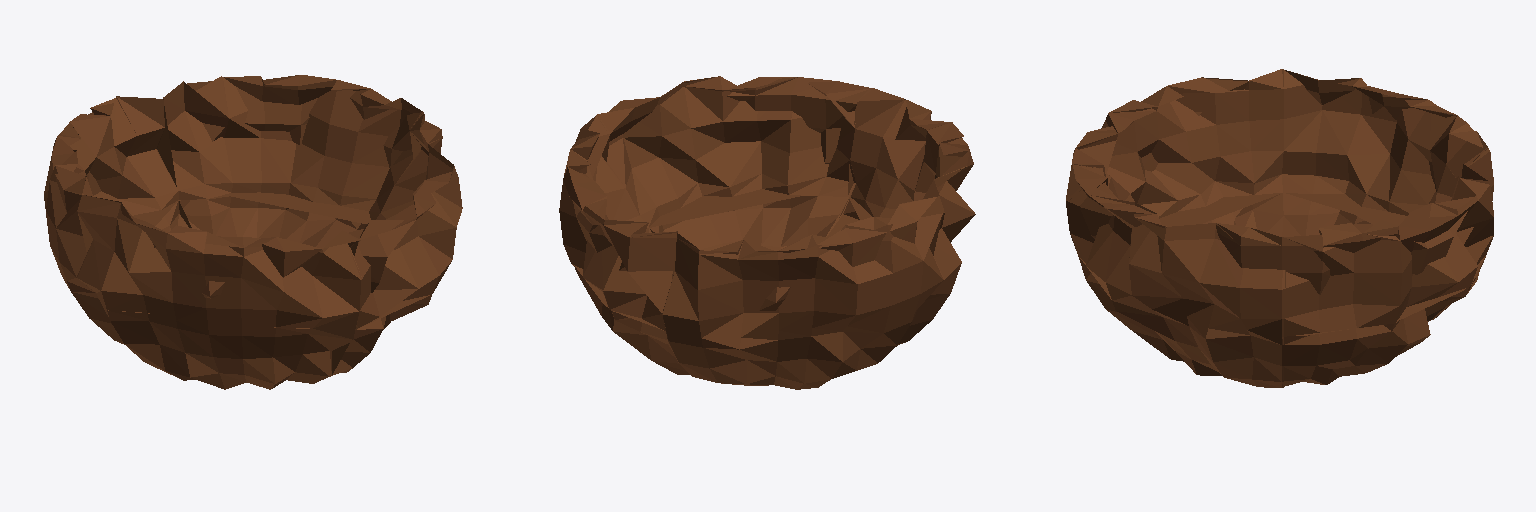
3 renders of one model, left to right at view 1: azimuth 30°, elevation 25°; view 2: azimuth 150°, elevation 25°; view 3: azimuth 270°, elevation 25°, orthographic.
Visible parts, largest first — view 1: part2, part5, part3, part8, part6, part1, part7, part4; view 2: part8, part3, part2, part5, part4, part7, part1, part6; view 3: part5, part3, part8, part2, part7, part1, part4, part6.
Part boxes in pixels (left/top/right/bottom): part2: left=157, top=75, right=421, bottom=223; part5: left=76, top=194, right=361, bottom=329; part3: left=44, top=96, right=178, bottom=291; part8: left=349, top=111, right=462, bottom=327; part6: left=96, top=293, right=356, bottom=389; part1: left=179, top=192, right=370, bottom=248; part7: left=332, top=295, right=431, bottom=375; part4: left=58, top=201, right=191, bottom=344; part8: left=596, top=76, right=871, bottom=227; part3: left=662, top=197, right=943, bottom=337; part2: left=559, top=116, right=677, bottom=330; part5: left=848, top=88, right=975, bottom=290; part4: left=666, top=309, right=917, bottom=389; part7: left=649, top=189, right=848, bottom=250; part1: left=574, top=228, right=689, bottom=374; part6: left=825, top=197, right=954, bottom=344; part5: left=1066, top=69, right=1283, bottom=255; part3: left=1284, top=70, right=1493, bottom=249; part8: left=1066, top=164, right=1285, bottom=336; part2: left=1284, top=164, right=1493, bottom=336; part7: left=1078, top=256, right=1283, bottom=387; part1: left=1284, top=269, right=1479, bottom=386; part4: left=1284, top=193, right=1485, bottom=321; part6: left=1160, top=193, right=1283, bottom=236.
Bounding box in the file's own units: 2.23 × 1.23 × 2.33.
8 materials, 1 textured.